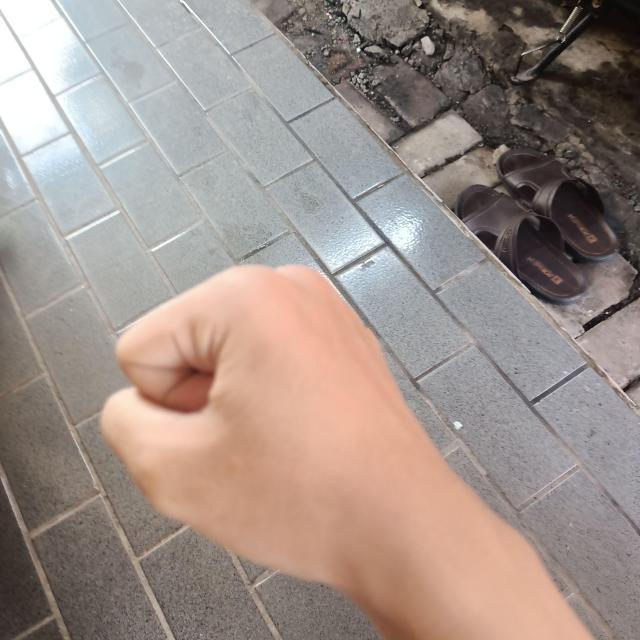fist: (93, 251, 475, 604)
